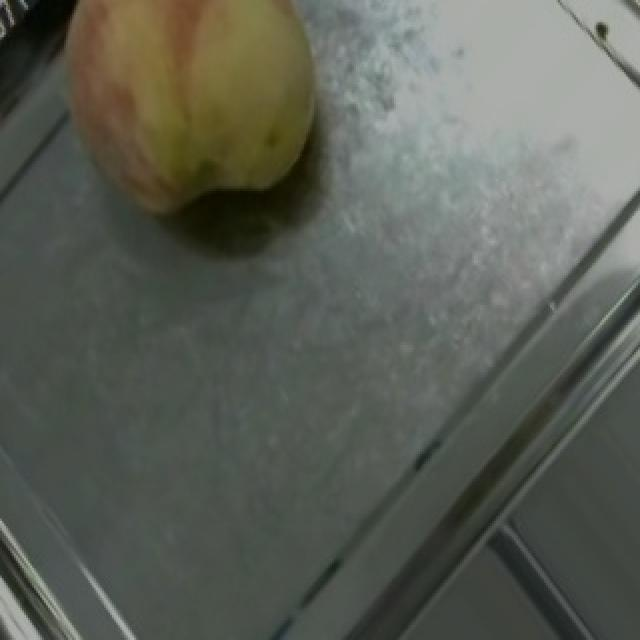Fruit: (22, 0, 358, 258)
